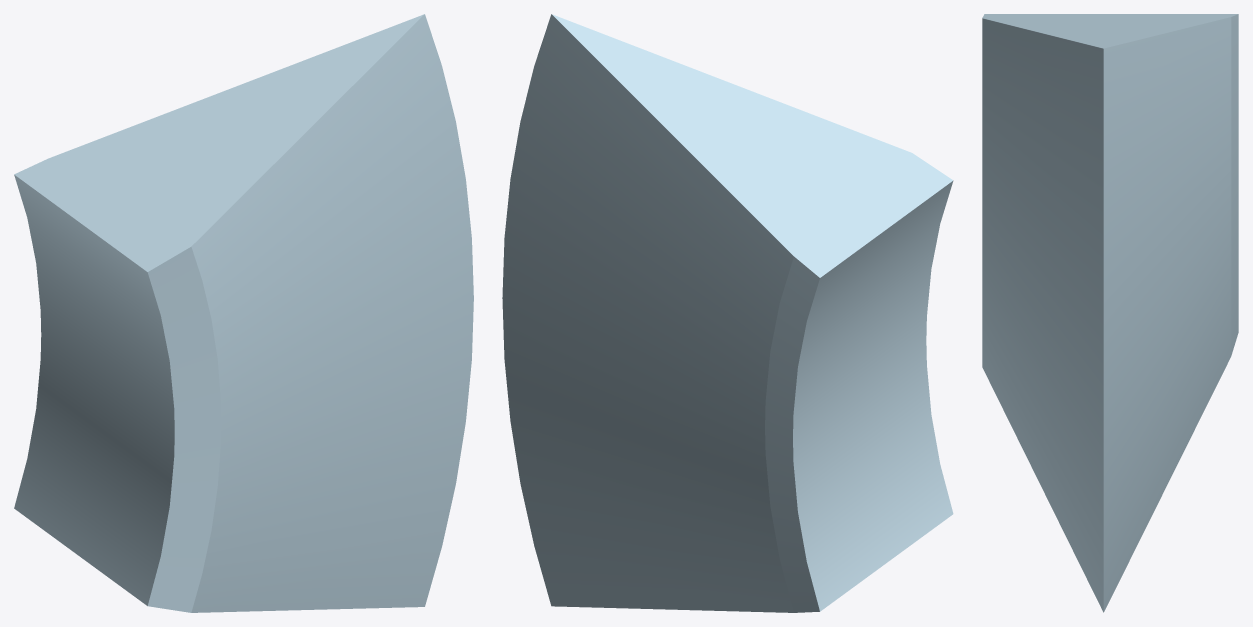
File: Sub_4_Cell_1_2.gltf
3 renders of one model, left to right at view 1: azimuth 30°, elevation 25°; view 2: azimuth 150°, elevation 25°; view 3: azimuth 270°, elevation 25°, orthographic. The views are drawn at different scales.
Parts seen in each view (by area): view 1: Sub_4_Cell_1_2; view 2: Sub_4_Cell_1_2; view 3: Sub_4_Cell_1_2.
Part boxes in pixels (x1,y1,x2,y2): Sub_4_Cell_1_2: [14, 14, 473, 612]; Sub_4_Cell_1_2: [502, 14, 953, 612]; Sub_4_Cell_1_2: [982, 14, 1238, 612].
Bounding box in the file's own units: 0.0614 × 0.0895 × 0.0369.
